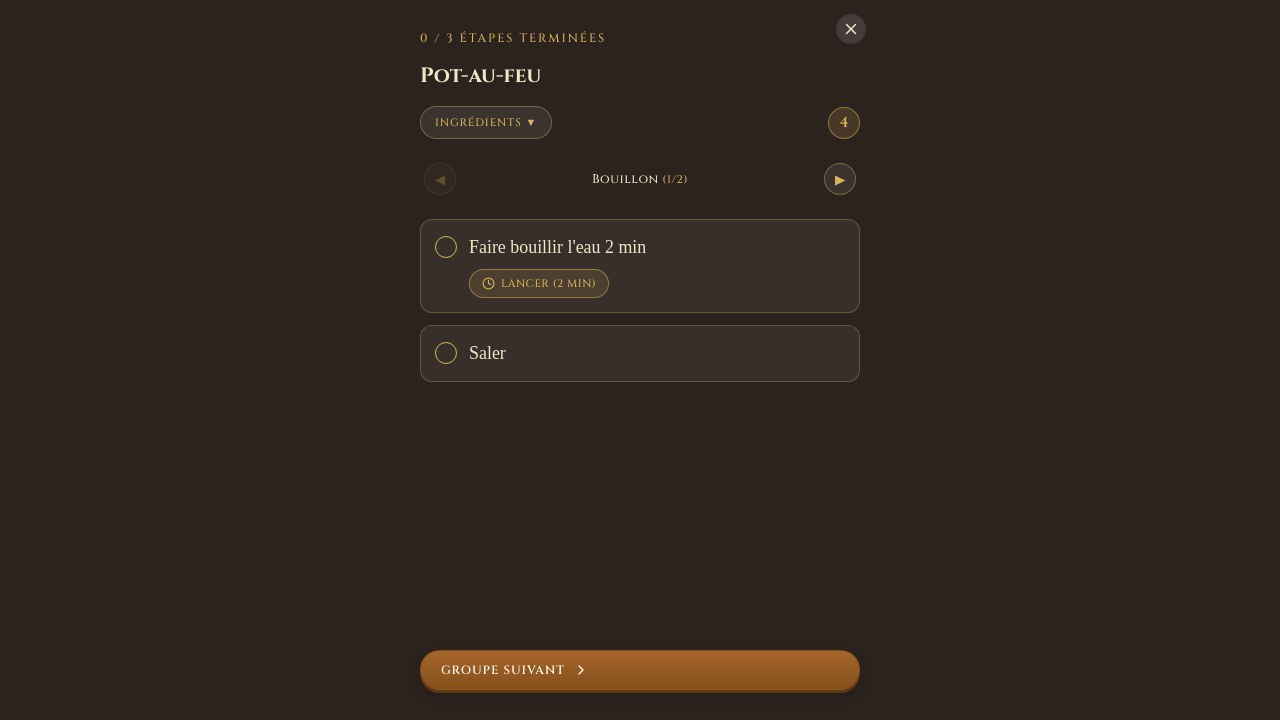
Test: CookMode — minuteurs › met en pause depuis le bandeau, puis signale la fin une seule fois même hors écran
Step 1. Click the button with class "step-timer-btn" → (539, 283), box [469,269,609,298]
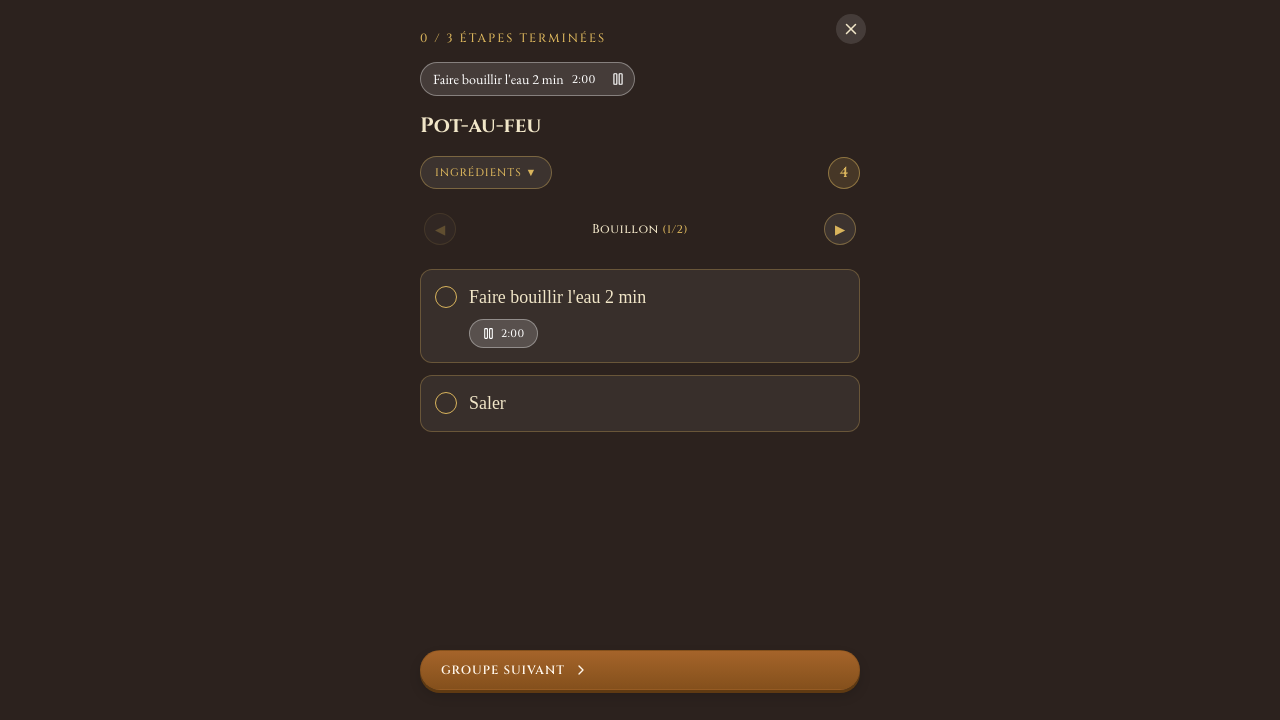
Step 2. Click the button with class "group-nav-btn" showing "▶" → (840, 229), box [824,213,856,245]
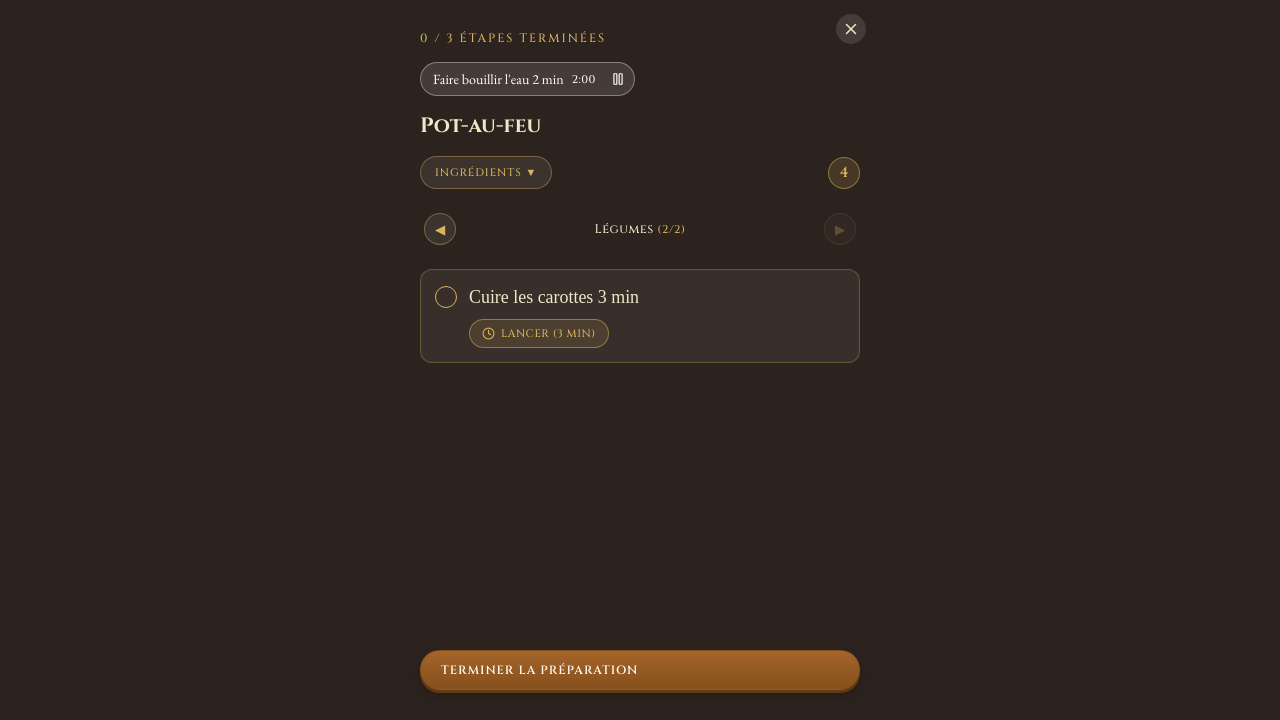
Step 3. Click the button with class "cookmode-timer-action" → (618, 79), box [602,63,634,95]
Wait 300000 ms
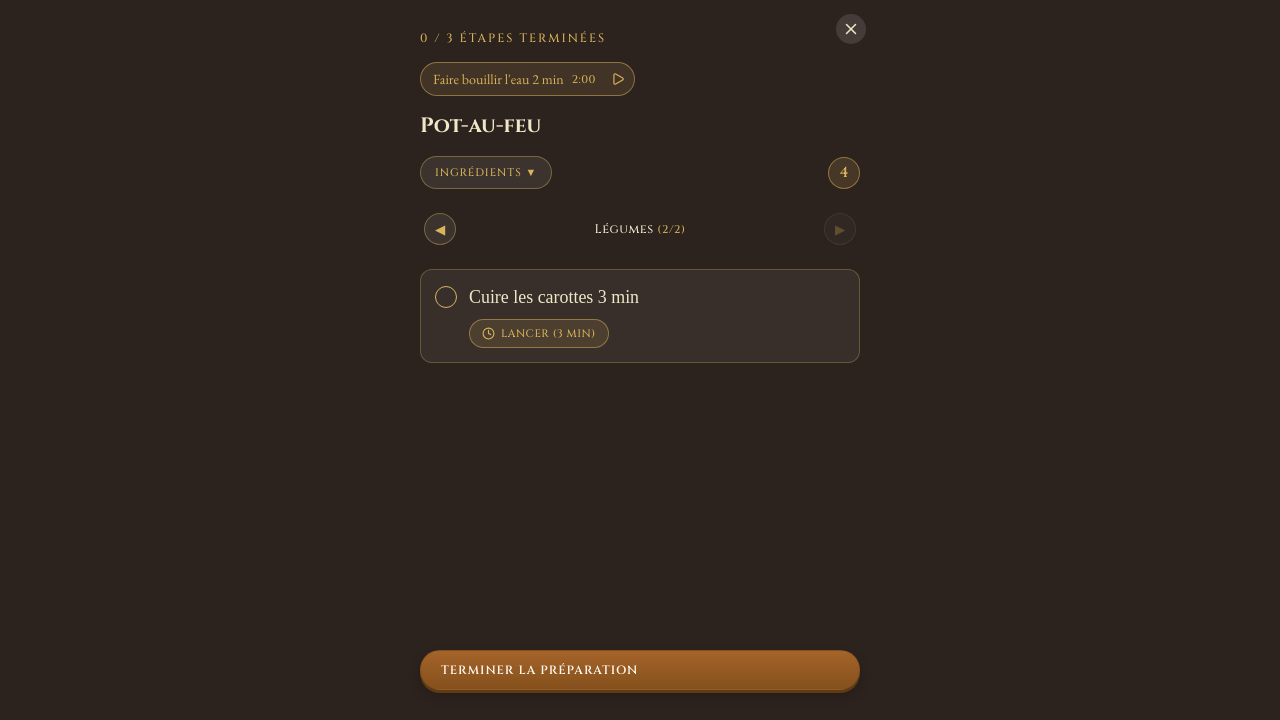
Step 4. Click the button with class "cookmode-timer-action" → (618, 79), box [602,63,634,95]
Wait 180000 ms
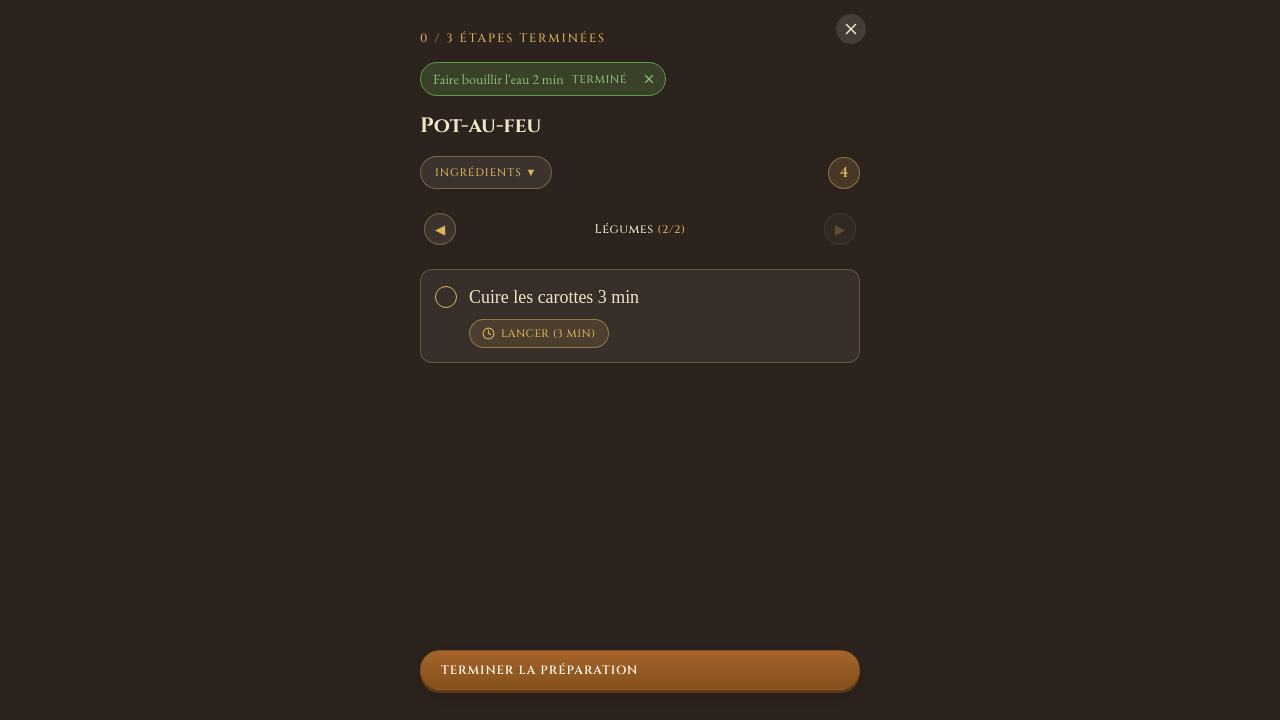
Now the list item with class "cookmode-timer-chip" has class "done", box [420,62,666,96]
Step 5. Click the button with class "cookmode-timer-action" → (649, 79), box [633,63,665,95]
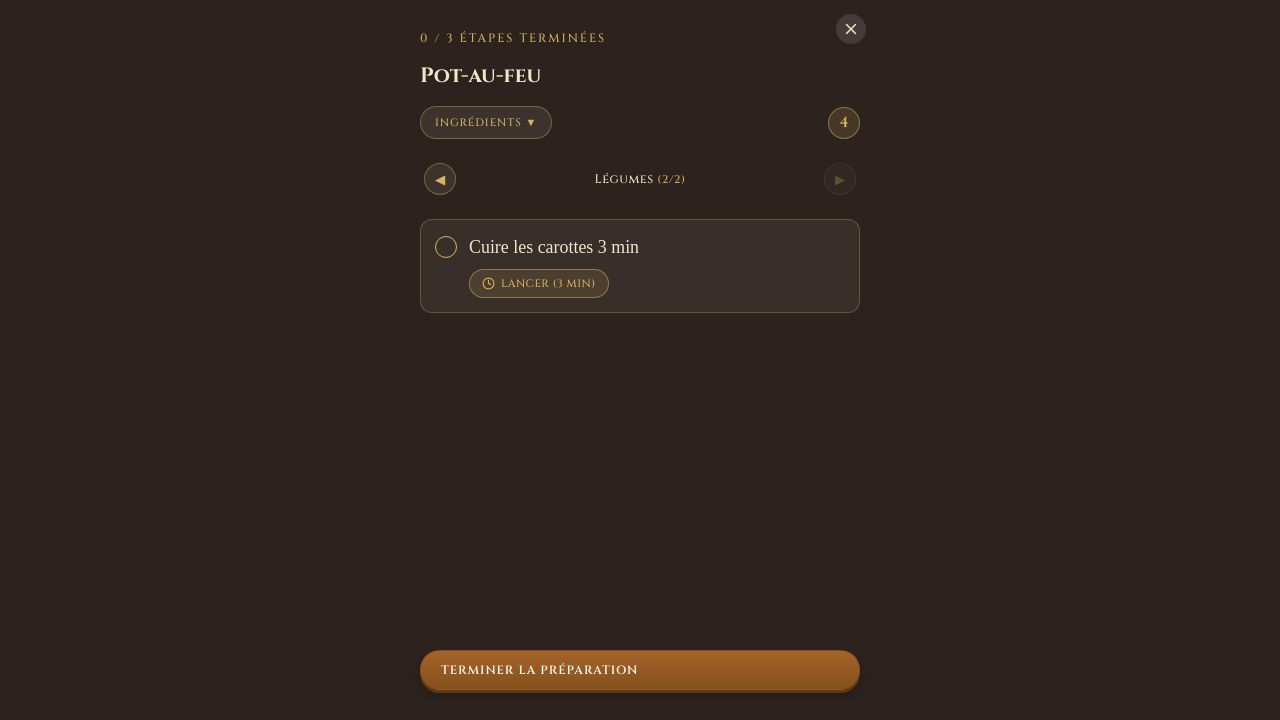
Now the list item with class "cookmode-timer-chip" is gone
